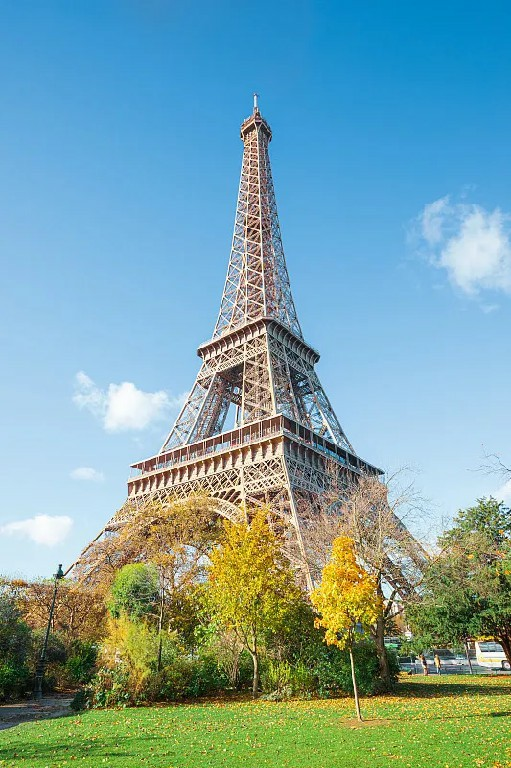Eiffel: (17, 92, 453, 653)
